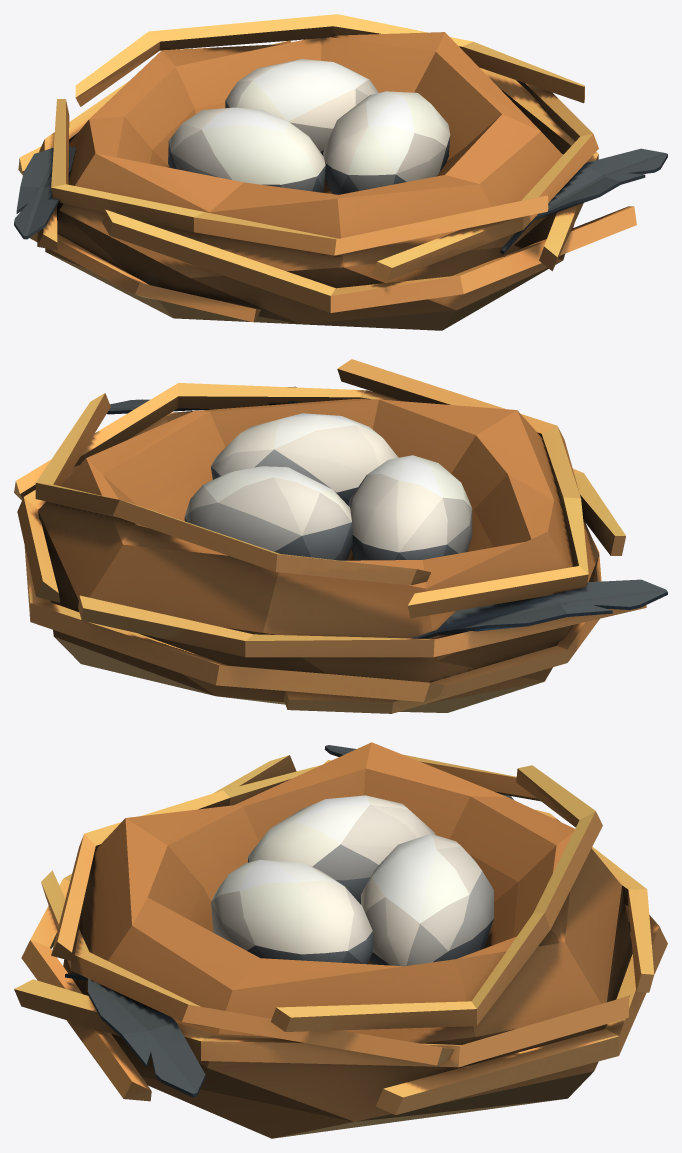
Rendered from birds-nest.fbx.
The picture shows the model from 3 angles, top to bottom: view 1: azimuth 30°, elevation 25°; view 2: azimuth 150°, elevation 25°; view 3: azimuth 270°, elevation 25°; orthographic projection. The views are drawn at different scales.
Parts seen in each view (by area): view 1: birds_nest; view 2: birds_nest; view 3: birds_nest.
Part boxes in pixels (x1,y1,x2,y2): birds_nest: (14, 14, 667, 330); birds_nest: (14, 359, 667, 713); birds_nest: (14, 742, 667, 1138).
Size of the model in its own units: 232 by 69.5 by 195.
Materials: 1 (1 with a texture image).
